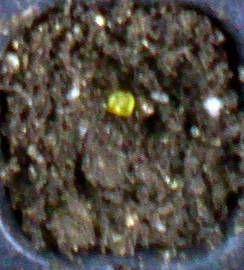chilli seed: (107, 91, 134, 115)
